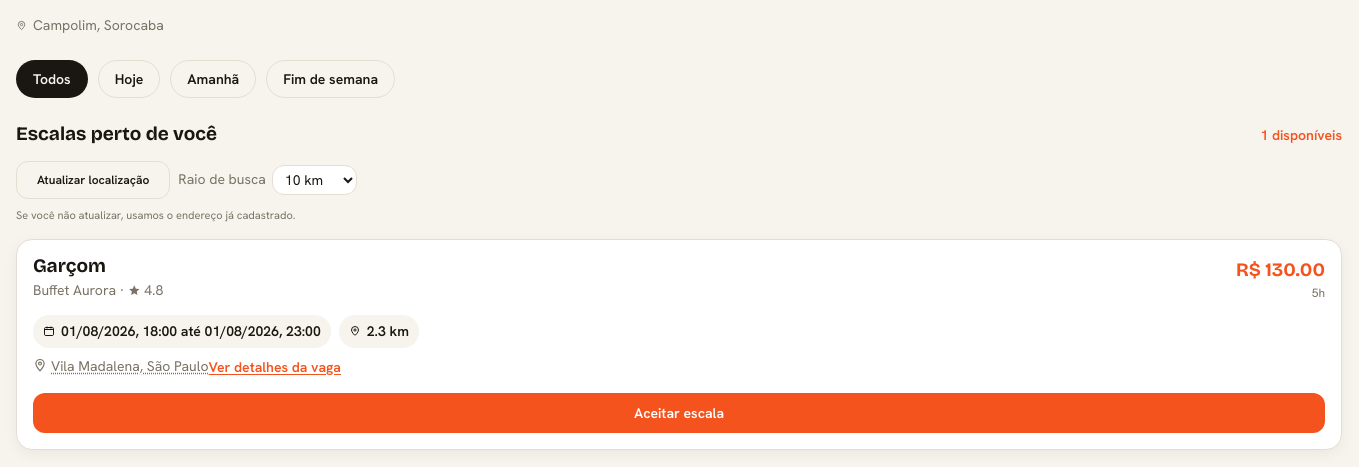
Scenario: InicioPage › deixa atualizar a localização manualmente pelo botão da tela
Expected: the text "Garçom" is shown, [33, 254, 106, 277]
Click the button "Atualizar localização": (93, 180) [16, 160, 170, 198]
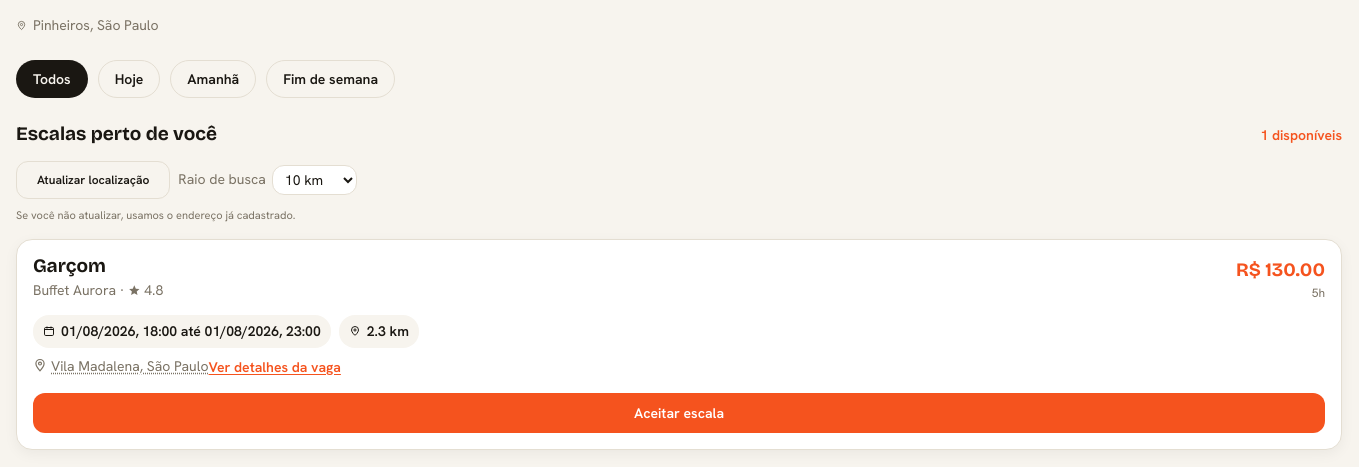
Expected: the text "Pinheiros, São Paulo" is shown, [16, 16, 159, 34]
